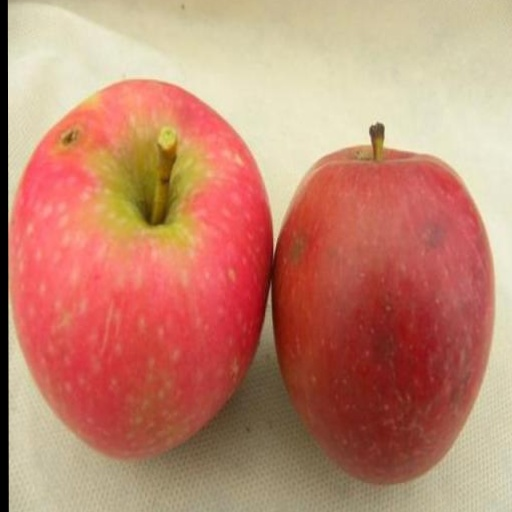fruit: (8, 80, 272, 457), (273, 125, 494, 482)
